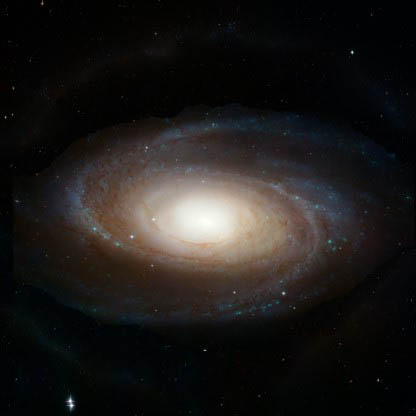Messier 81: (20, 86, 378, 413)
